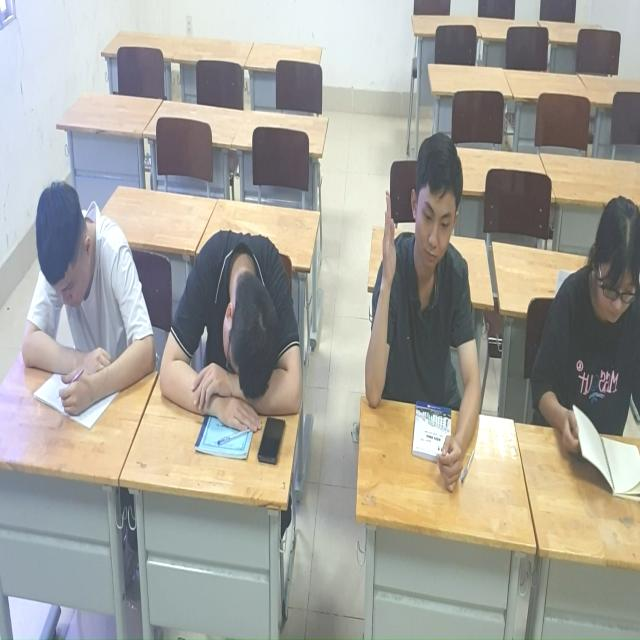raise_hand: (362, 128, 485, 488)
read: (523, 175, 640, 510), (17, 171, 152, 433)
sleep: (156, 228, 307, 434)
